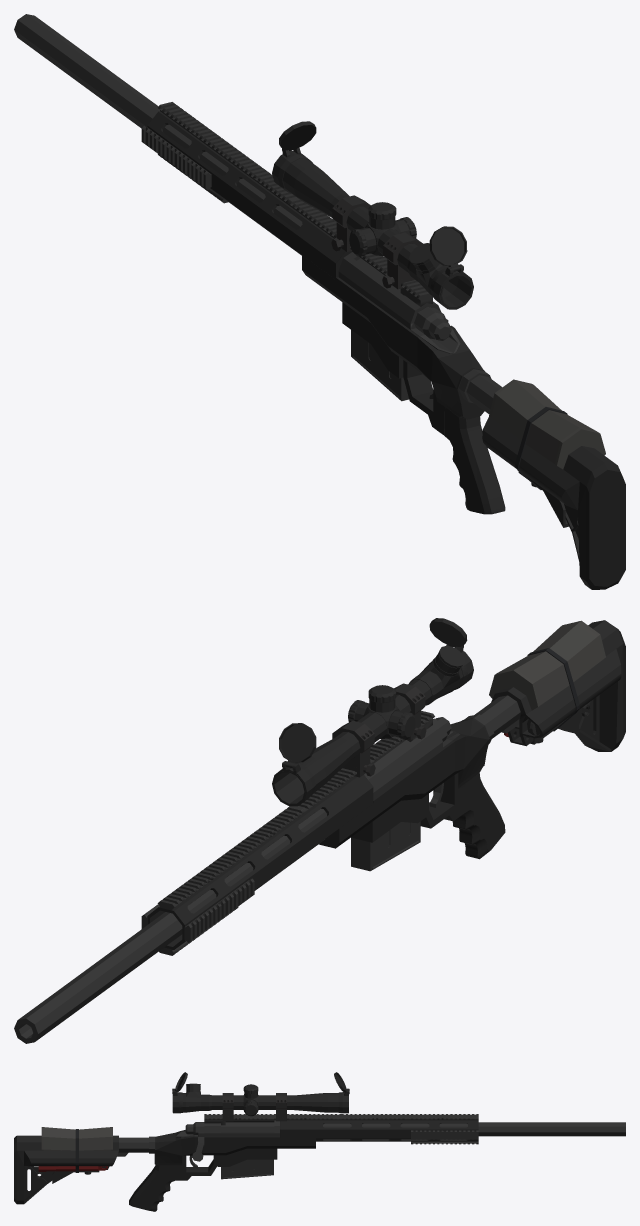
Rendered from MSR.glb.
3 views of the same model, one above another, from view 1: azimuth 30°, elevation 25°; view 2: azimuth 150°, elevation 25°; view 3: azimuth 270°, elevation 25° (orthographic). The views are drawn at different scales.
Parts seen in each view (by area): view 1: Stock_Sopmod, Body_Chasis, Barrel, Handguard, Cheek_Pad, Scope_Leupold, grip_RDE, Bolt_Assembly, Rail_Top_Extension, Rail_Top, Magazine_Standard, Rail_Side_Left (+5 smaller); view 2: Stock_Sopmod, Barrel, Body_Chasis, Handguard, Cheek_Pad, Scope_Leupold, grip_RDE, Rail_Top_Extension, Bolt_Assembly, Magazine_Standard, Rail_Top, Rail_Side_Left (+7 smaller); view 3: Body_Chasis, Handguard, Stock_Sopmod, Barrel, Scope_Leupold, Cheek_Pad, grip_RDE, bolt, Rail_Top_Extension, Rail_Top, Magazine_Standard, Bolt_Assembly (+6 smaller).
Part boxes in pixels (x1,y1,x2,y2): Stock_Sopmod: (482,416,625,589); Body_Chasis: (302,255,484,435); Barrel: (14,14,302,229); Handguard: (147,111,351,279); Cheek_Pad: (489,379,605,469); Scope_Leupold: (282,159,473,309); grip_RDE: (444,408,505,514); Bolt_Assembly: (338,252,460,354); Rail_Top_Extension: (158,102,297,205); Rail_Top: (288,198,432,310); Magazine_Standard: (351,330,408,401); Rail_Side_Left: (141,126,211,189); Stock_Sopmod: (491,620,625,751); Barrel: (14,808,326,1043); Body_Chasis: (319,718,489,848); Handguard: (147,775,373,949); Cheek_Pad: (489,620,605,710); Scope_Leupold: (273,647,473,805); grip_RDE: (452,773,505,859); Rail_Top_Extension: (157,806,304,910); Bolt_Assembly: (364,725,460,798); Magazine_Standard: (351,821,420,871); Rail_Top: (293,710,434,814); Rail_Side_Left: (184,878,254,942); Body_Chasis: (154,1130,315,1180); Handguard: (280,1120,478,1141); Stock_Sopmod: (14,1135,118,1204); Barrel: (323,1122,625,1136); Scope_Leupold: (172,1092,338,1112); Cheek_Pad: (41,1127,112,1150); grip_RDE: (129,1164,174,1211); bolt: (185,1122,274,1161); Rail_Top_Extension: (341,1114,478,1120); Rail_Top: (204,1114,341,1125); Magazine_Standard: (221,1159,273,1179); Bolt_Assembly: (175,1120,279,1144).
Size of the model in its own units: 0.0575 by 0.2256 by 0.9126.
9 materials, 9 textured.
